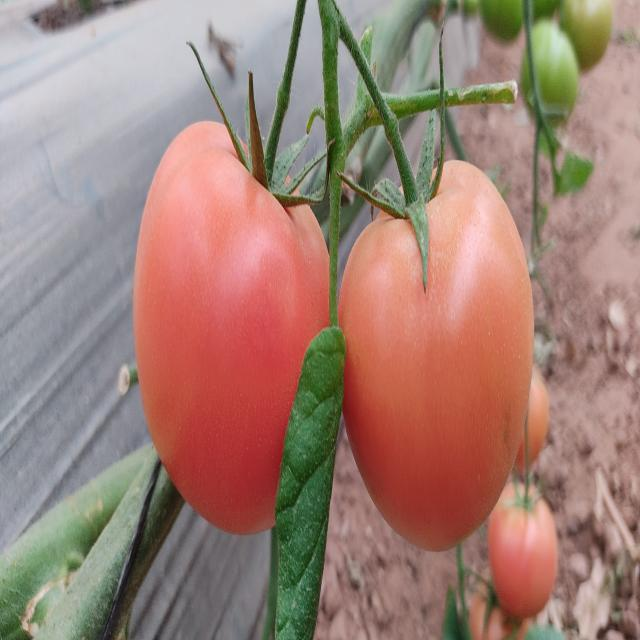Ripe Tomato: (137, 130, 340, 524), (334, 164, 536, 538), (493, 482, 553, 615)
Unripe Tomato: (522, 21, 578, 119)
